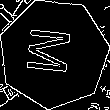M_E: (26, 28, 81, 79)
